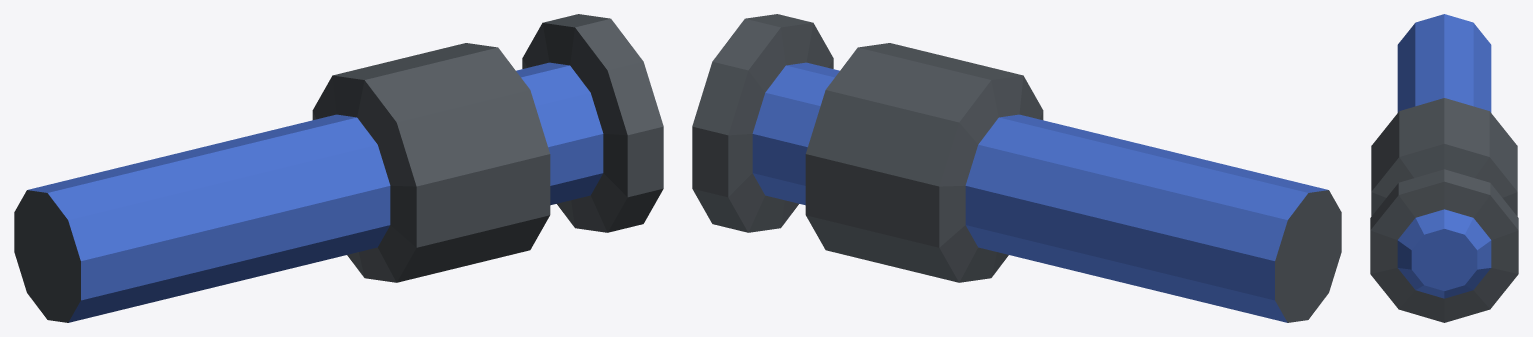
File: Personal_Vehicle_01_Footrest_Blue.fbx
3 renders of one model, left to right at view 1: azimuth 30°, elevation 25°; view 2: azimuth 150°, elevation 25°; view 3: azimuth 270°, elevation 25°, orthographic. The views are drawn at different scales.
Parts seen in each view (by area): view 1: Personal_Vehicle_01_Footrest_Blue; view 2: Personal_Vehicle_01_Footrest_Blue; view 3: Personal_Vehicle_01_Footrest_Blue.
Boxes of the visible parts, box(x1,y1,x2,y2) form: Personal_Vehicle_01_Footrest_Blue: box(14, 14, 663, 322); Personal_Vehicle_01_Footrest_Blue: box(692, 14, 1341, 322); Personal_Vehicle_01_Footrest_Blue: box(1370, 14, 1518, 322).
Size of the model in its own units: 36.53 by 11.96 by 11.37.
Materials: 1 (1 with a texture image).
